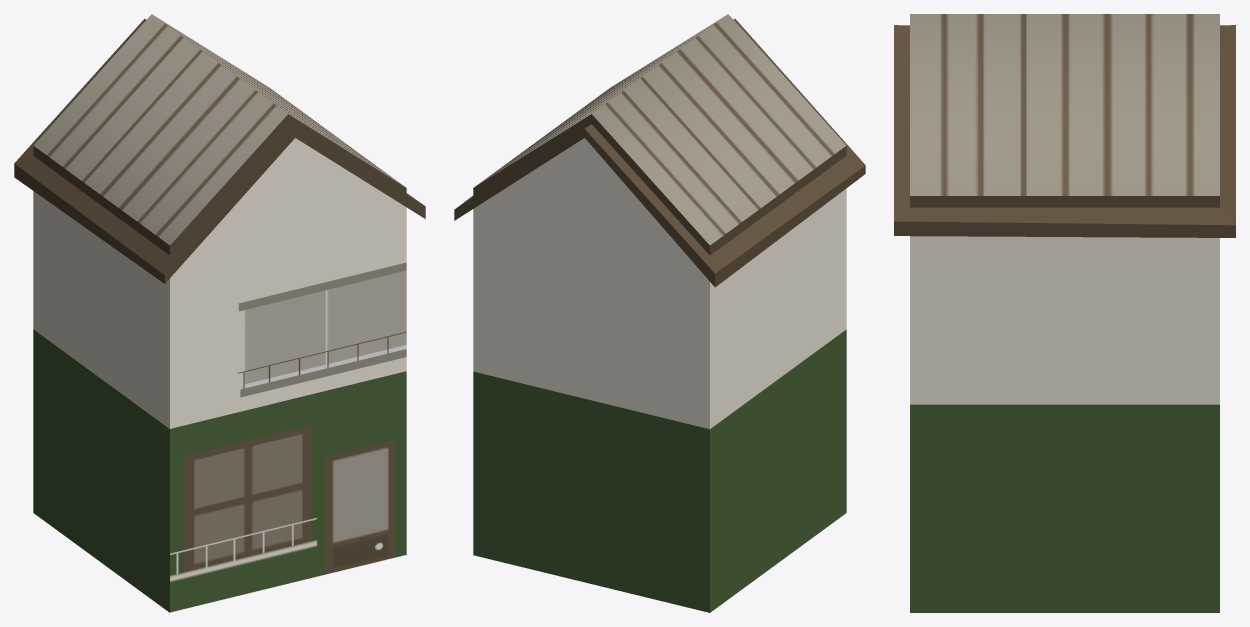
The model's file is building5.fbx.
The picture shows the model from 3 angles, left to right: view 1: azimuth 30°, elevation 25°; view 2: azimuth 150°, elevation 25°; view 3: azimuth 270°, elevation 25°; orthographic projection. The views are drawn at different scales.
Visible parts, largest first — view 1: pCube2; view 2: pCube2; view 3: pCube2.
Part boxes in pixels (left/top/right/bottom): pCube2: left=14, top=14, right=425, bottom=612; pCube2: left=454, top=14, right=865, bottom=612; pCube2: left=894, top=14, right=1235, bottom=612.
Bounding box in the file's own units: 466 × 803 × 466.
